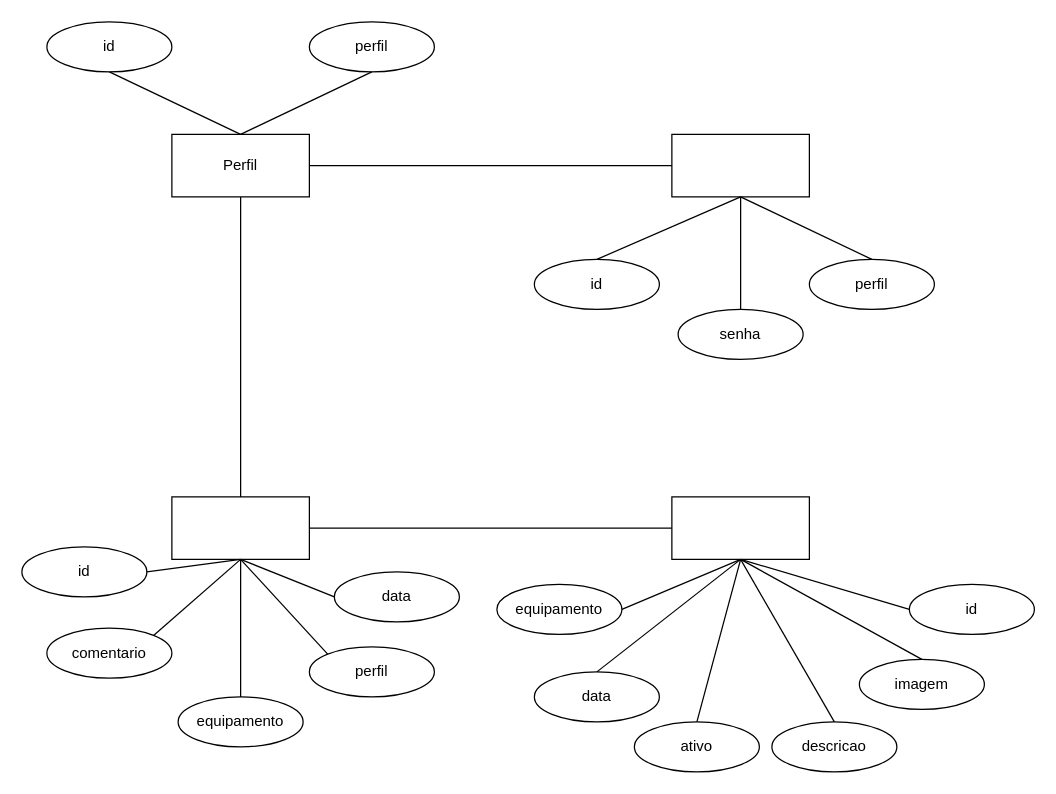
The diagram is 1056 pixels wide and 794 high, and some of its shapes have lost their labels. Here are the shapes that lost their labels. From the top down, the box of each, then its label:
(671, 133, 809, 197): Usuario
(171, 496, 309, 559): Comentarios
(671, 496, 809, 559): Equipamentos
